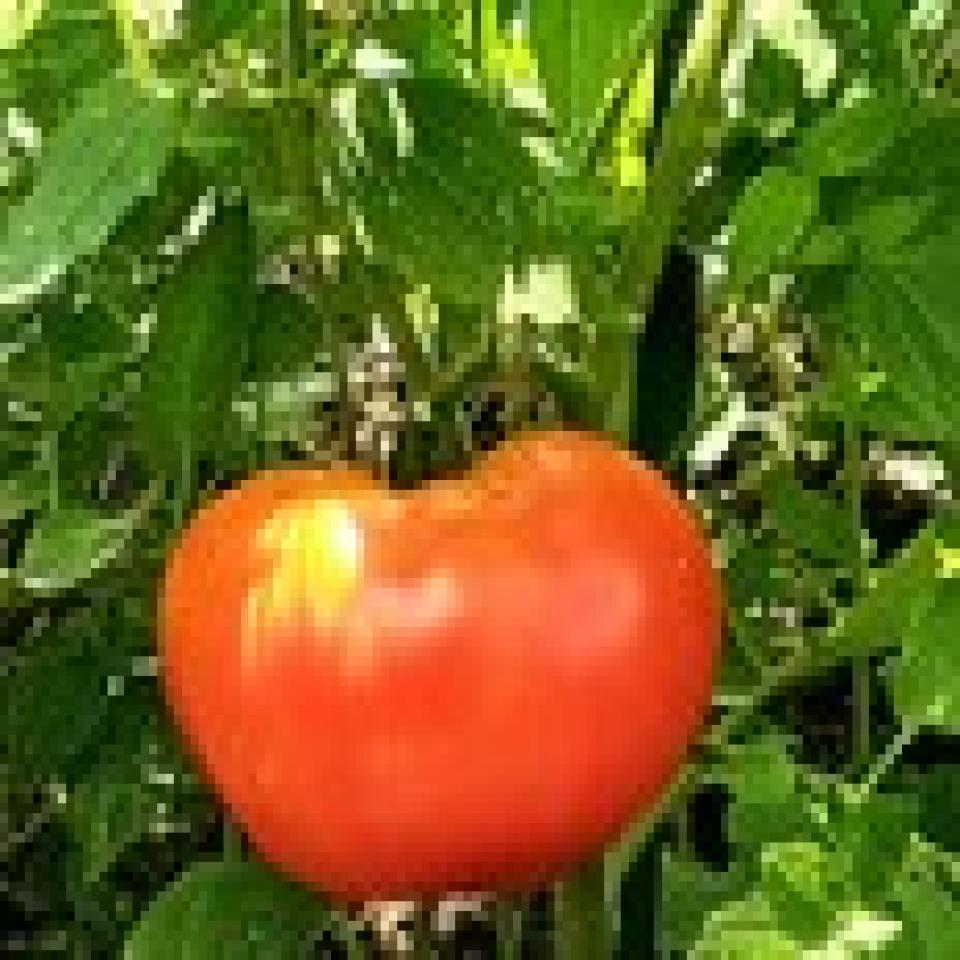Healthy: (171, 447, 712, 899)
